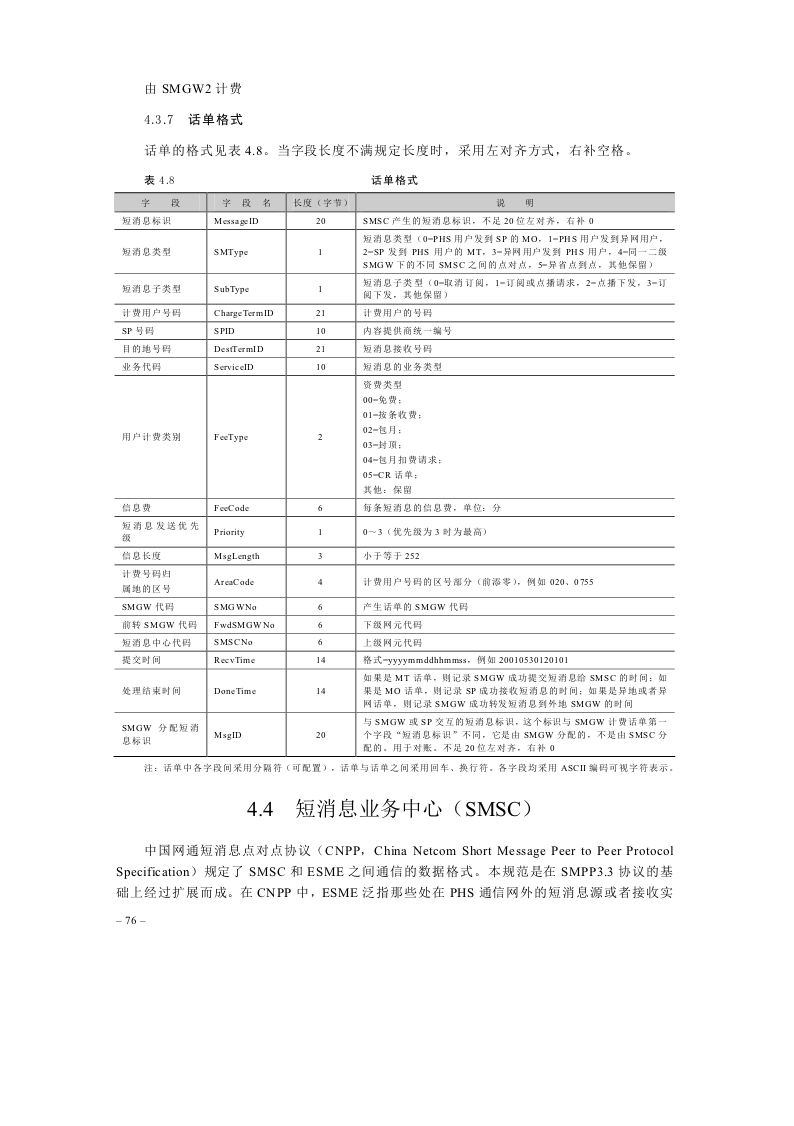table: (113, 191, 674, 756)
